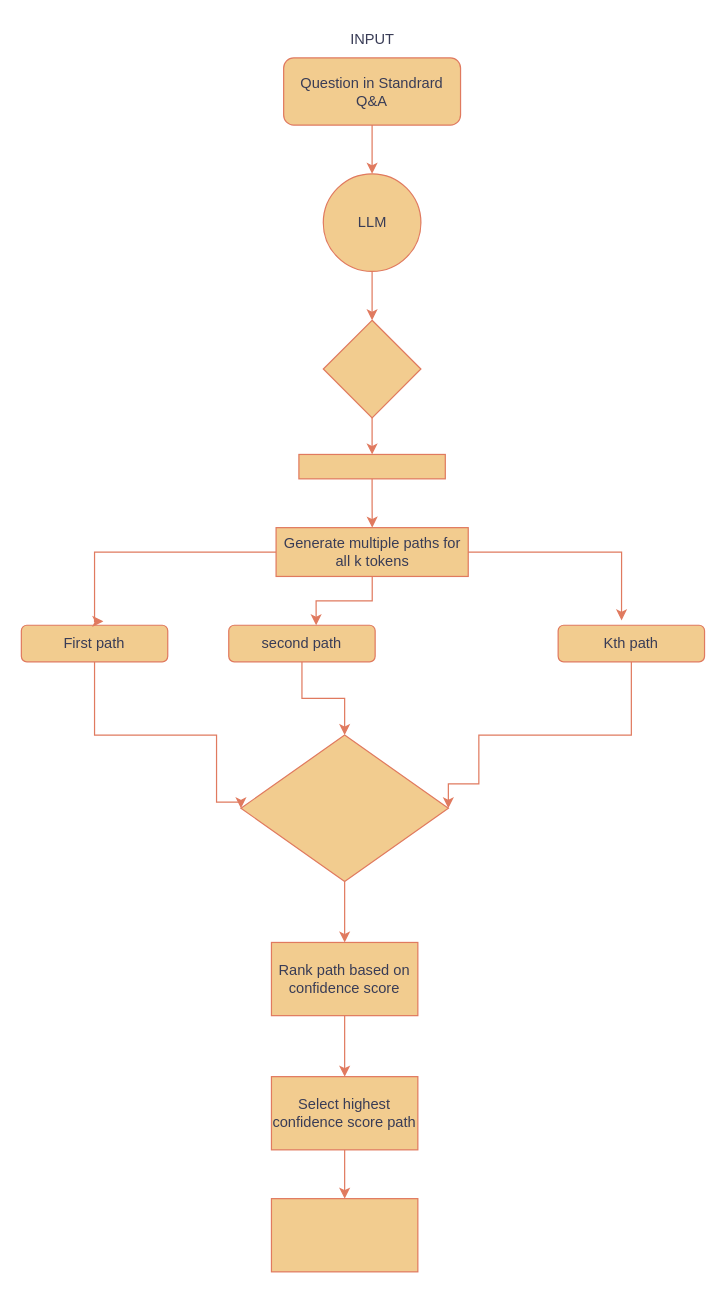
Image size: 726x1293. Some labels were removed from this diagram. Each missing label, with the centre of its shape:
"Decoding step" belongs at pixel 371 368.
"Final answer" belongs at pixel 344 1234.
"Measure confidence for each path (multiply prob of each token)" belongs at pixel 344 807.
"Top K tokens" belongs at pixel 371 466.
